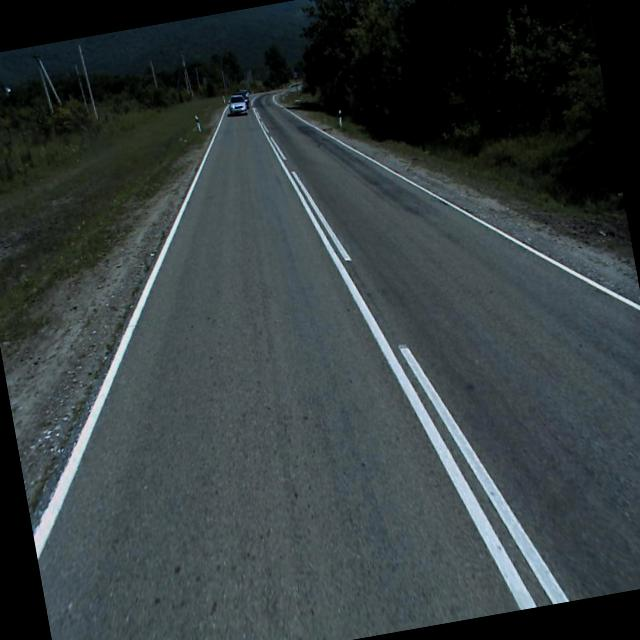road: (31, 90, 640, 640)
